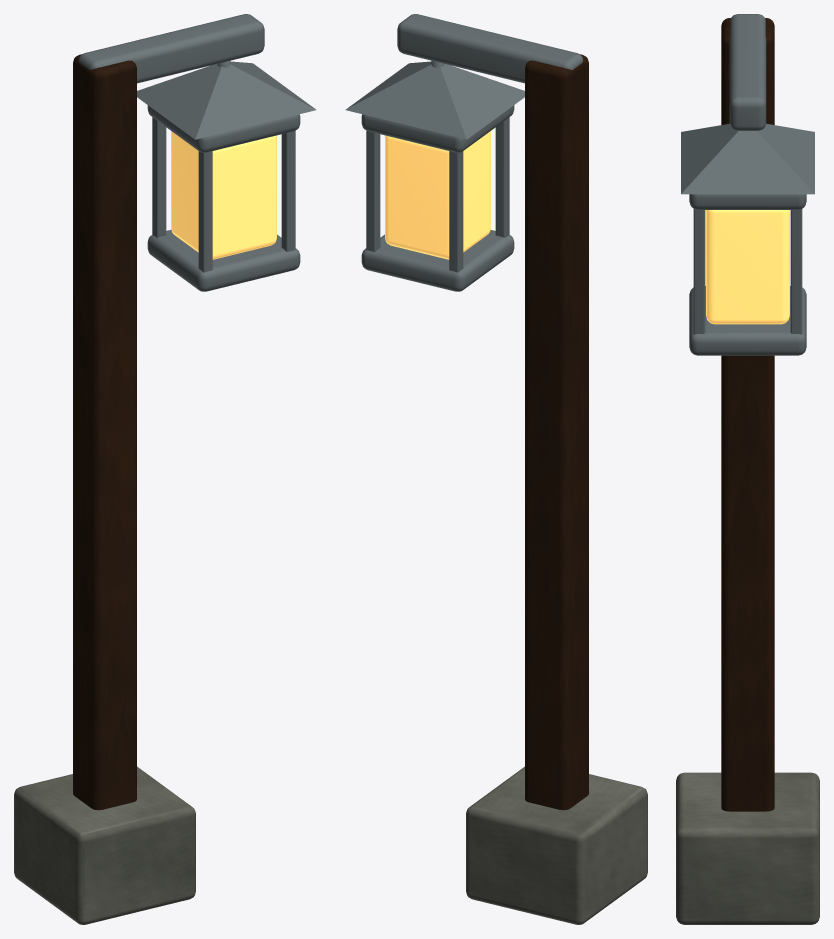
File: street_lantern.glb
The picture shows the model from 3 angles, left to right: view 1: azimuth 30°, elevation 25°; view 2: azimuth 150°, elevation 25°; view 3: azimuth 270°, elevation 25°; orthographic projection. The views are drawn at different scales.
Visible parts, largest first — view 1: Oak lamp post.001, Lantern bracket.001, Stone foot.001, Amber panes.001; view 2: Oak lamp post.001, Lantern bracket.001, Stone foot.001, Amber panes.001; view 3: Oak lamp post.001, Lantern bracket.001, Stone foot.001, Amber panes.001.
Part boxes in pixels (x1,y1,x2,y2): Oak lamp post.001: (73, 54, 136, 810); Lantern bracket.001: (78, 14, 316, 291); Stone foot.001: (14, 766, 195, 924); Amber panes.001: (171, 131, 276, 259); Oak lamp post.001: (525, 54, 588, 810); Lantern bracket.001: (345, 14, 583, 291); Stone foot.001: (466, 766, 647, 924); Amber panes.001: (385, 131, 490, 259); Oak lamp post.001: (721, 18, 774, 811); Lantern bracket.001: (681, 14, 814, 355); Stone foot.001: (676, 772, 819, 924); Amber panes.001: (706, 210, 789, 324).
Size of the model in its own units: 0.865 by 2.88 by 0.43.
Materials: 4 (2 with a texture image).
